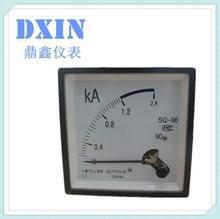pointer: (64, 72, 184, 193)
